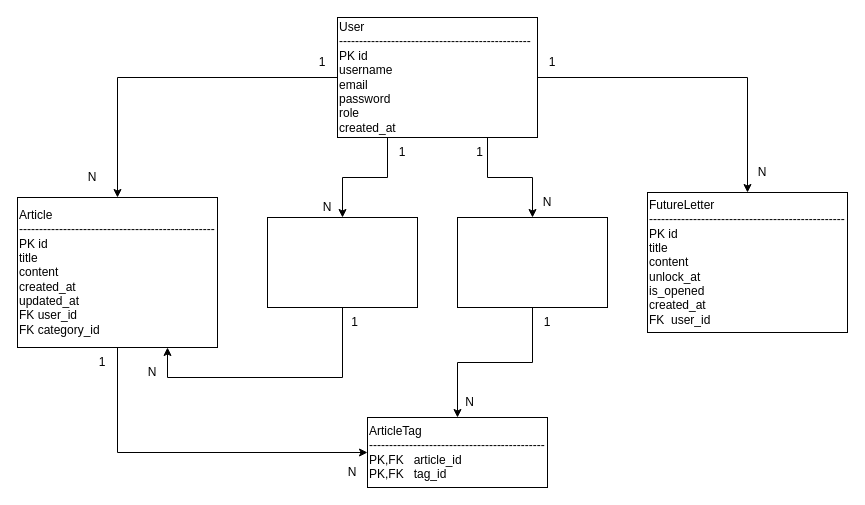
Image size: 865x505. Some labels were removed from this diagram. The centre of each missing label's shape, as x and y in pixels:
Category ------------------------------------- PK id name FK user_id: point (342, 262)
Tag ------------------------------------ PK id name FK user_id: point (532, 262)
